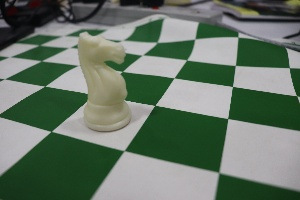white_horse: (70, 28, 137, 138)
